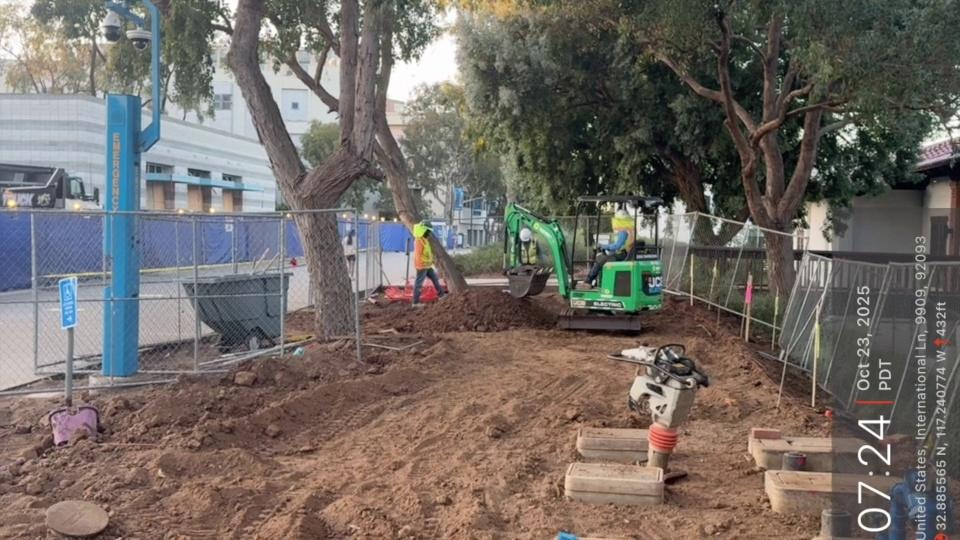Exacavator: (500, 192, 666, 334)
